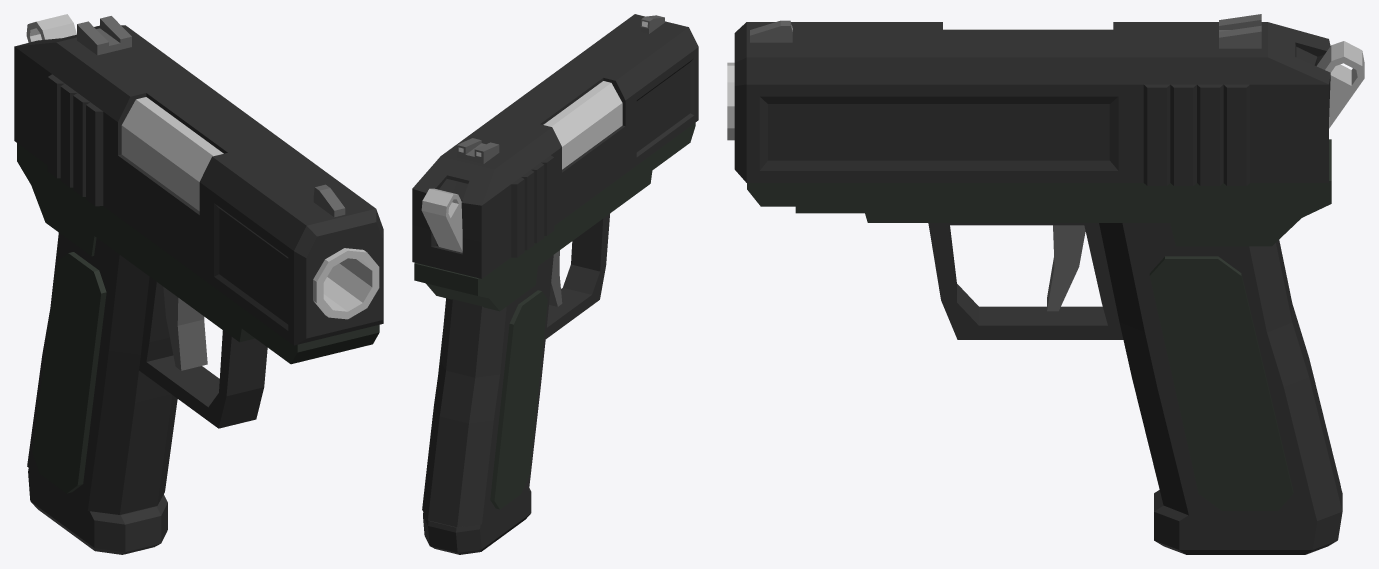
The model's file is AsimovConcealCarry.fbx.
3 renders of one model, left to right at view 1: azimuth 30°, elevation 25°; view 2: azimuth 150°, elevation 25°; view 3: azimuth 270°, elevation 25°, orthographic. The views are drawn at different scales.
Visible parts, largest first — view 1: AsimovConcealCarry; view 2: AsimovConcealCarry; view 3: AsimovConcealCarry.
Part boxes in pixels (bbox=[...]): AsimovConcealCarry: bbox=[14, 14, 383, 554]; AsimovConcealCarry: bbox=[412, 14, 698, 554]; AsimovConcealCarry: bbox=[727, 14, 1364, 554].
Size of the model in its own units: 8.94 by 41.59 by 46.48.
